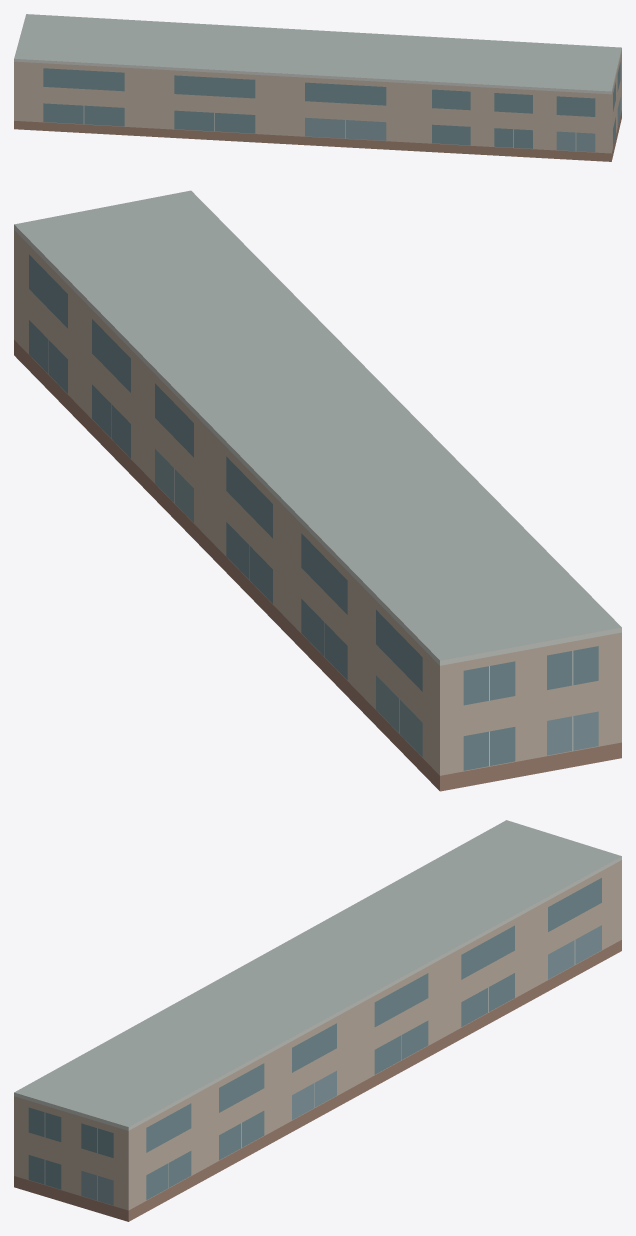
Rendered from survey-upis-32702175.glb.
3 renders of one model, top to bottom at view 1: azimuth 30°, elevation 25°; view 2: azimuth 150°, elevation 25°; view 3: azimuth 270°, elevation 25°, orthographic. The views are drawn at different scales.
Visible parts, largest first — view 1: survey-upis-32702175.tmp; view 2: survey-upis-32702175.tmp; view 3: survey-upis-32702175.tmp.
Boxes of the visible parts, x1=… form: survey-upis-32702175.tmp: x1=14, y1=14, x2=621, y2=161; survey-upis-32702175.tmp: x1=14, y1=190, x2=621, y2=791; survey-upis-32702175.tmp: x1=14, y1=820, x2=621, y2=1221.
Size of the model in its own units: 42.39 by 6.1 by 35.46.
